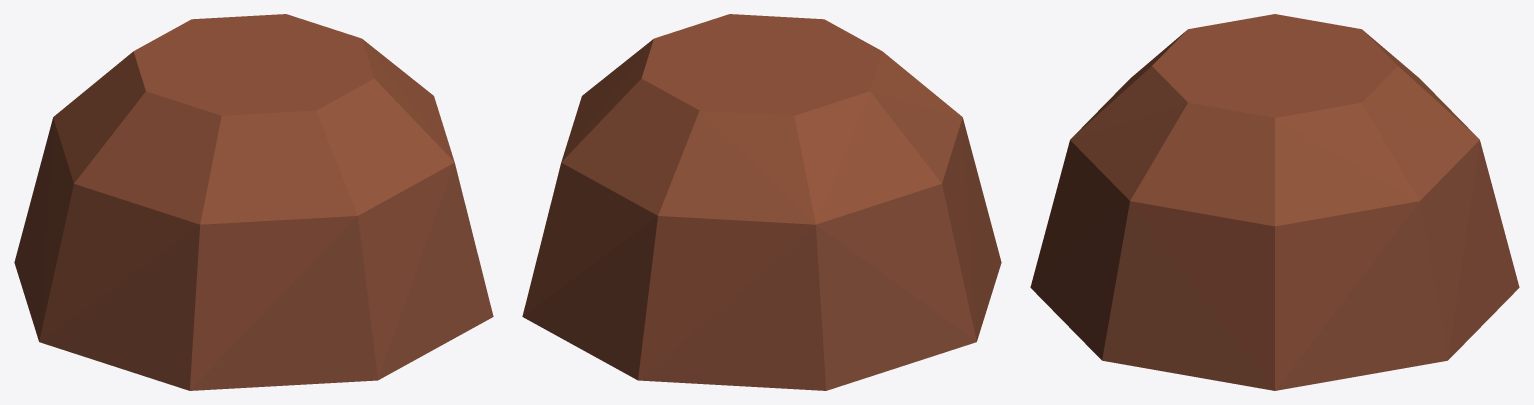
The model's file is fruit_half_coconut.glb.
3 views of the same model, side by side, from view 1: azimuth 30°, elevation 25°; view 2: azimuth 150°, elevation 25°; view 3: azimuth 270°, elevation 25° (orthographic).
Visible parts, largest first — view 1: fruit_half_coconut; view 2: fruit_half_coconut; view 3: fruit_half_coconut.
Boxes of the visible parts, bbox=[...] form: fruit_half_coconut: bbox=[14, 14, 493, 390]; fruit_half_coconut: bbox=[522, 14, 1001, 390]; fruit_half_coconut: bbox=[1030, 14, 1519, 390].
Bounding box in the file's own units: 0.135 × 0.0675 × 0.135.
